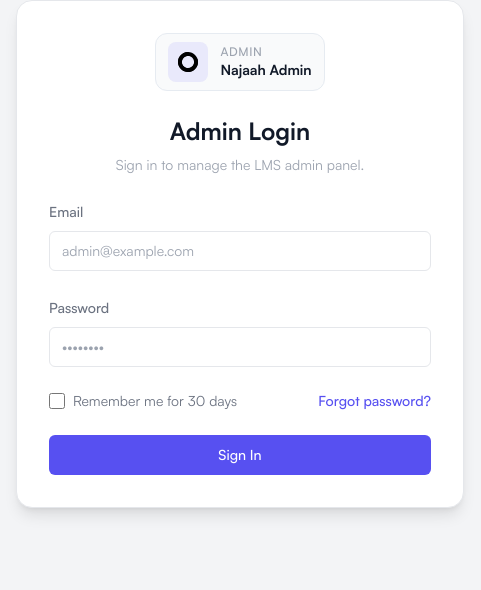
Test: LoginForm › shows validation errors when fields are empty
The width and height of the screenshot is (481, 590).
What coordinates should you click on to do the following:
click the button "Sign In"
I would click on:
 (240, 455)
Its box is top-left (49, 435), bottom-right (431, 475).
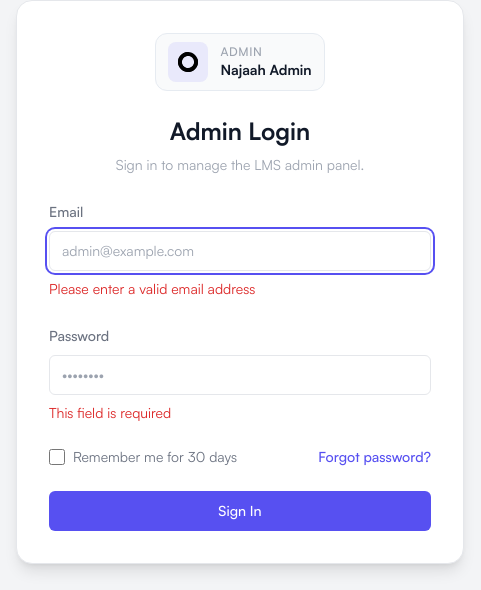
Result: the text "Please enter a valid email address" is shown at top-left (49, 280), bottom-right (255, 297)
Result: the text "This field is required" is shown at top-left (49, 404), bottom-right (171, 421)
